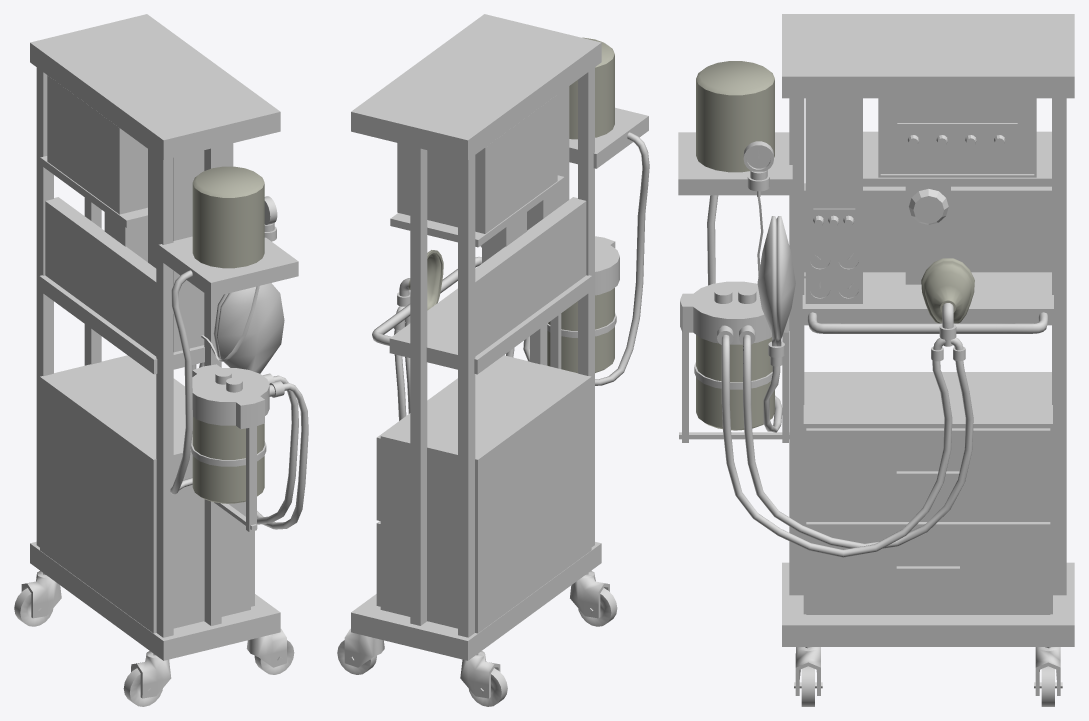
File: anesthesia.fbx
3 renders of one model, left to right at view 1: azimuth 30°, elevation 25°; view 2: azimuth 150°, elevation 25°; view 3: azimuth 270°, elevation 25°, orthographic. The views are drawn at different scales.
Visible parts, largest first — view 1: anesthesia, anesthesia.001; view 2: anesthesia, anesthesia.001; view 3: anesthesia, anesthesia.001.
Boxes of the visible parts, left/top/right/bottom form: anesthesia: left=14, top=14, right=308, bottom=706; anesthesia.001: left=192, top=166, right=264, bottom=503; anesthesia: left=337, top=14, right=649, bottom=706; anesthesia.001: left=408, top=37, right=614, bottom=373; anesthesia: left=678, top=14, right=1074, bottom=706; anesthesia.001: left=696, top=61, right=974, bottom=430.
Size of the model in its own units: 0.4471 by 1.48 by 0.8513.
Materials: 1 (1 with a texture image).
